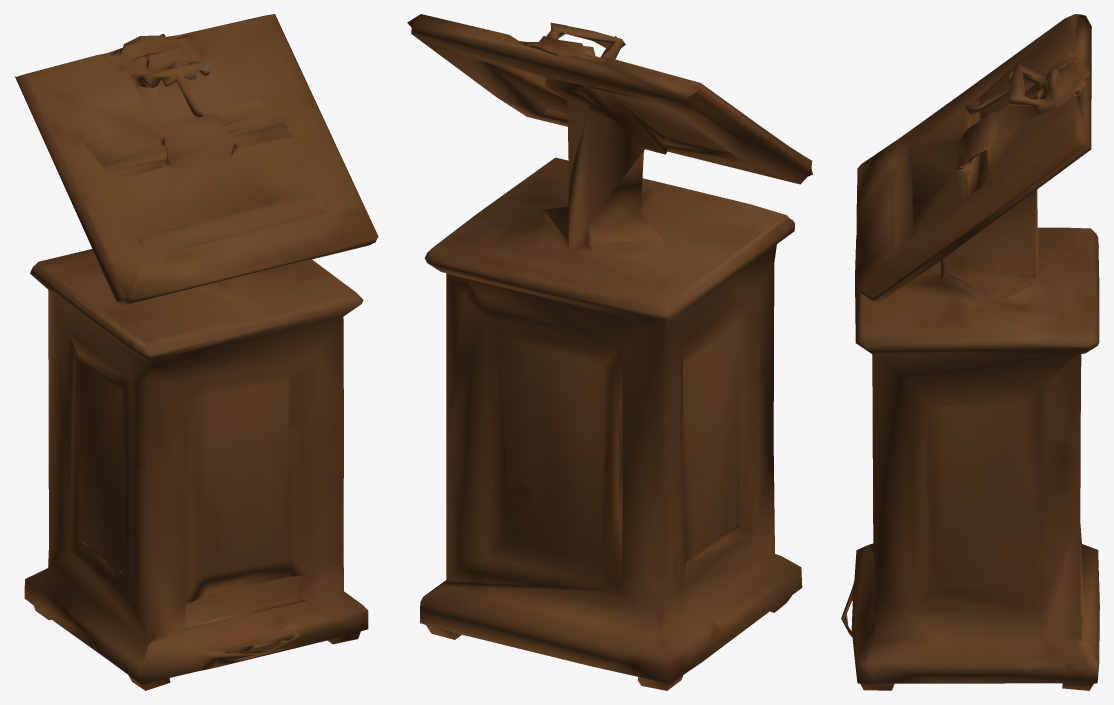
File: ambon.movil.glb
3 renders of one model, left to right at view 1: azimuth 30°, elevation 25°; view 2: azimuth 150°, elevation 25°; view 3: azimuth 270°, elevation 25°, orthographic. The views are drawn at different scales.
Parts seen in each view (by area): view 1: geometry_0; view 2: geometry_0; view 3: geometry_0.
Part boxes in pixels (bbox=[...]): geometry_0: bbox=[14, 14, 378, 690]; geometry_0: bbox=[407, 14, 812, 690]; geometry_0: bbox=[841, 14, 1099, 690].
Bounding box in the file's own units: 0.5975 × 1.2 × 0.497.
1 material, 1 textured.
